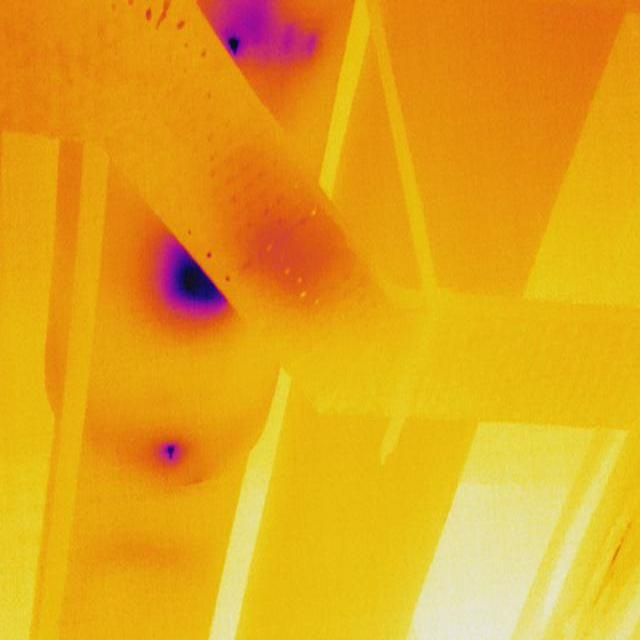leakage: (254, 193, 353, 305), (154, 232, 243, 324), (220, 10, 314, 62), (162, 438, 187, 464)
